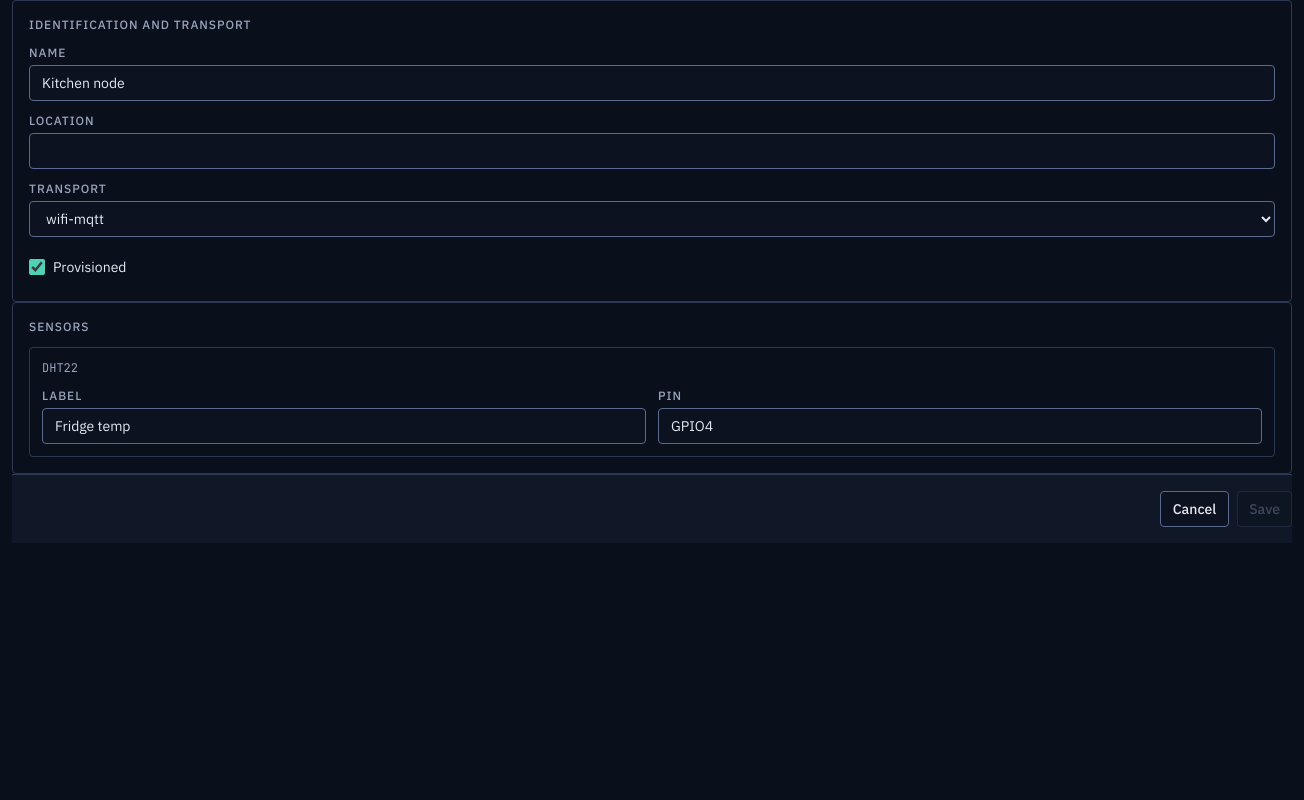
it: DeviceConfigContainer › shows an error on the device form when its update fails
Replace the text in the field labelled "Name" with "Renamed node" at (652, 83), box [29, 65, 1275, 101]
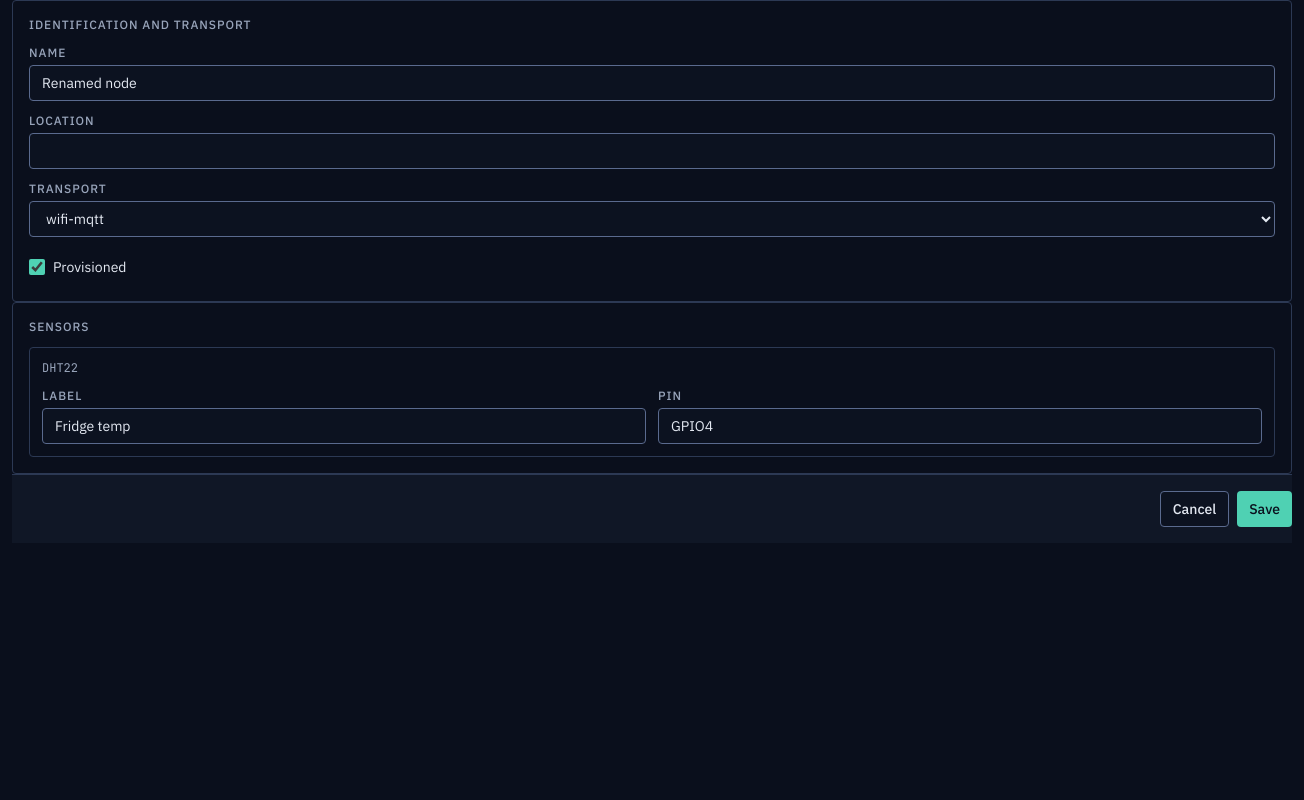
Click the button "Save".
click(1265, 509)  # box [1237, 491, 1292, 527]
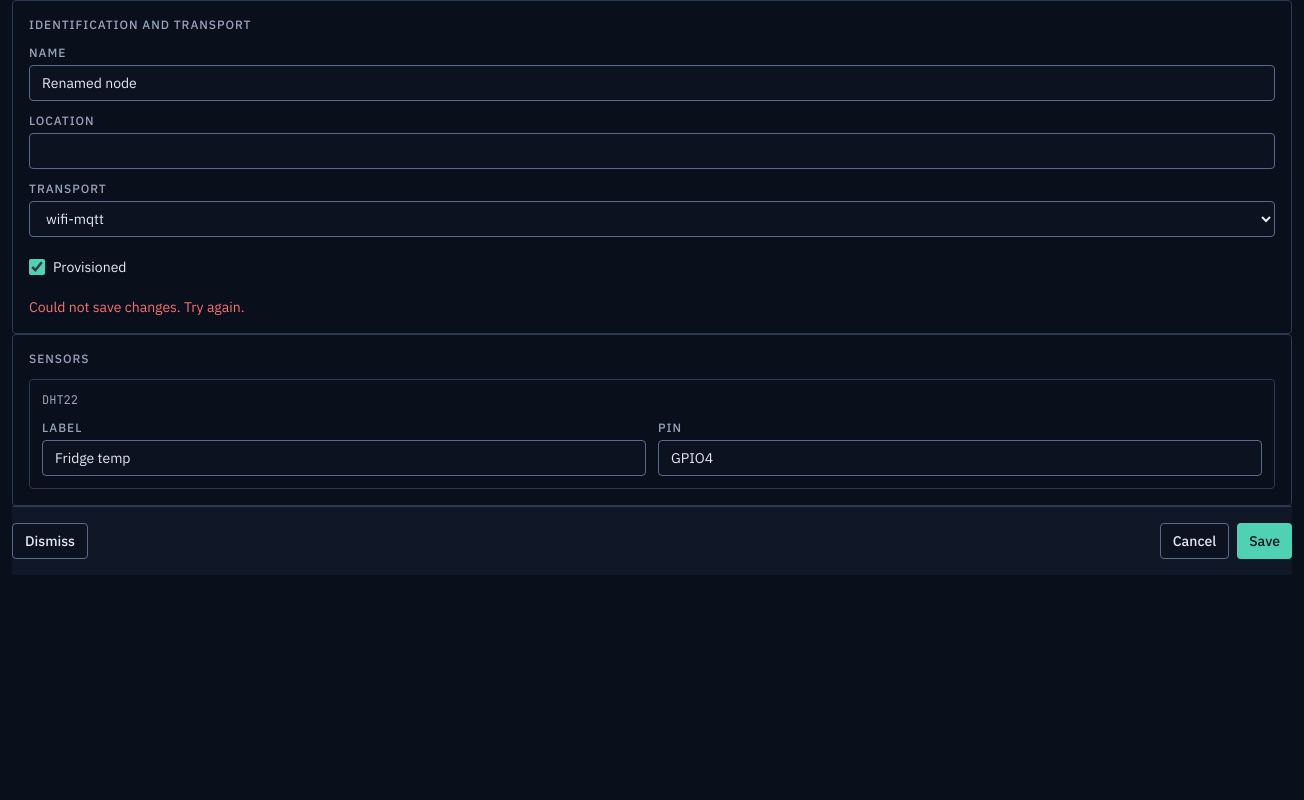
Now the number of messages is 1, box [29, 298, 244, 316]
Now the message reads "Could not save changes. Try again.", box [29, 298, 244, 316]
